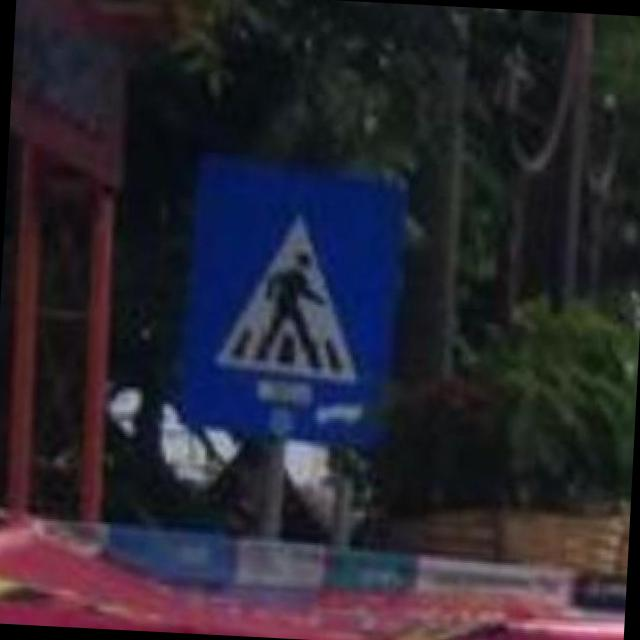crosswalk-sign: (172, 150, 415, 458)
